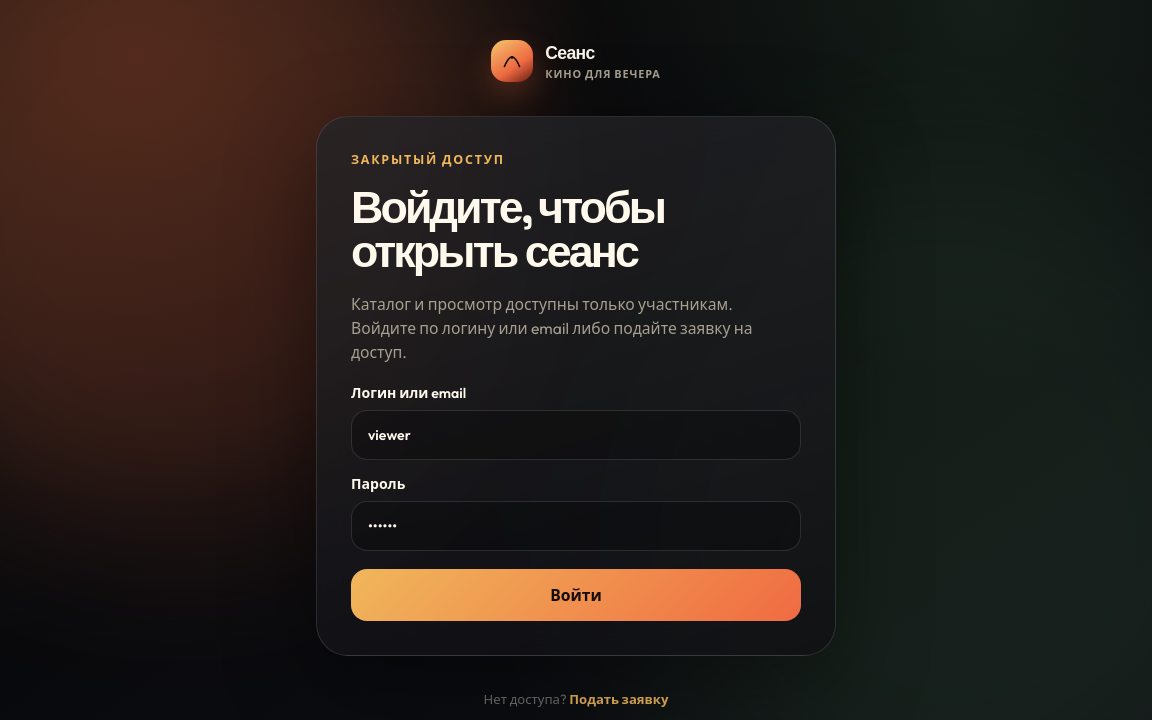
Test: AuthGateScreen › switches between login and signup
This screenshot has width=1152, height=720.
Step 1. Click the button "Подать заявку" → (619, 699), box [569, 690, 668, 709]
(page scrolled)
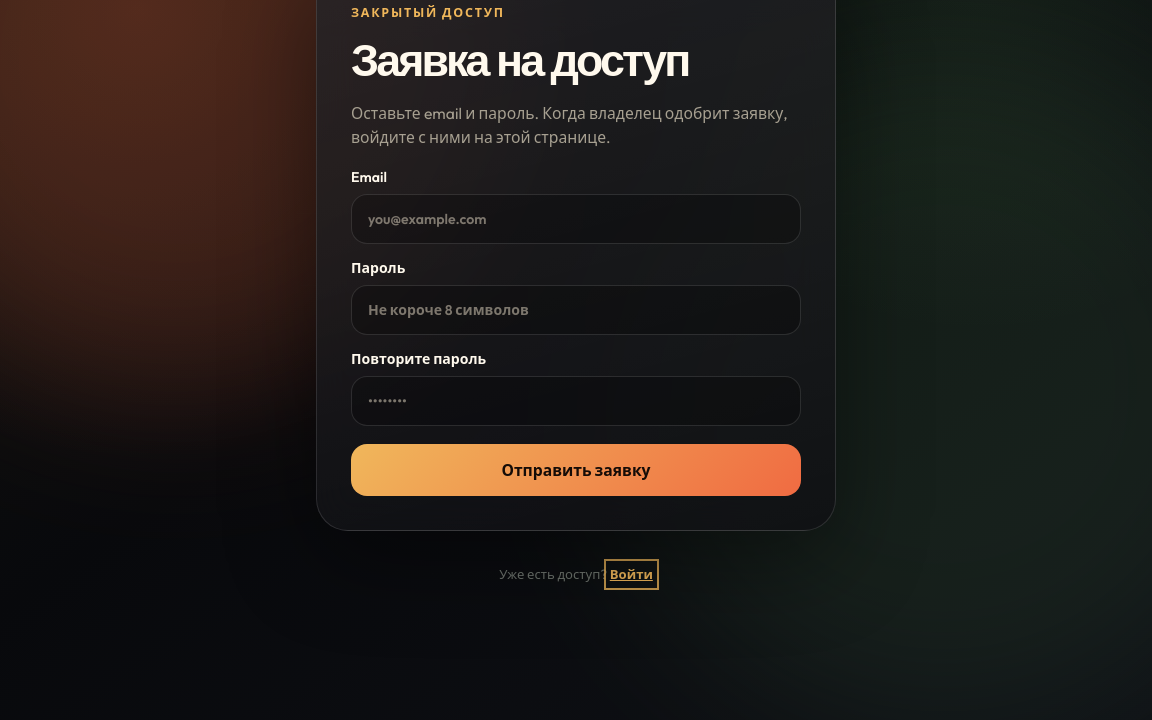
Now the heading "Заявка на доступ" is shown, box [351, 32, 688, 89]
Step 2. Click the button "Войти" → (631, 574), box [610, 564, 653, 584]
(page scrolled)
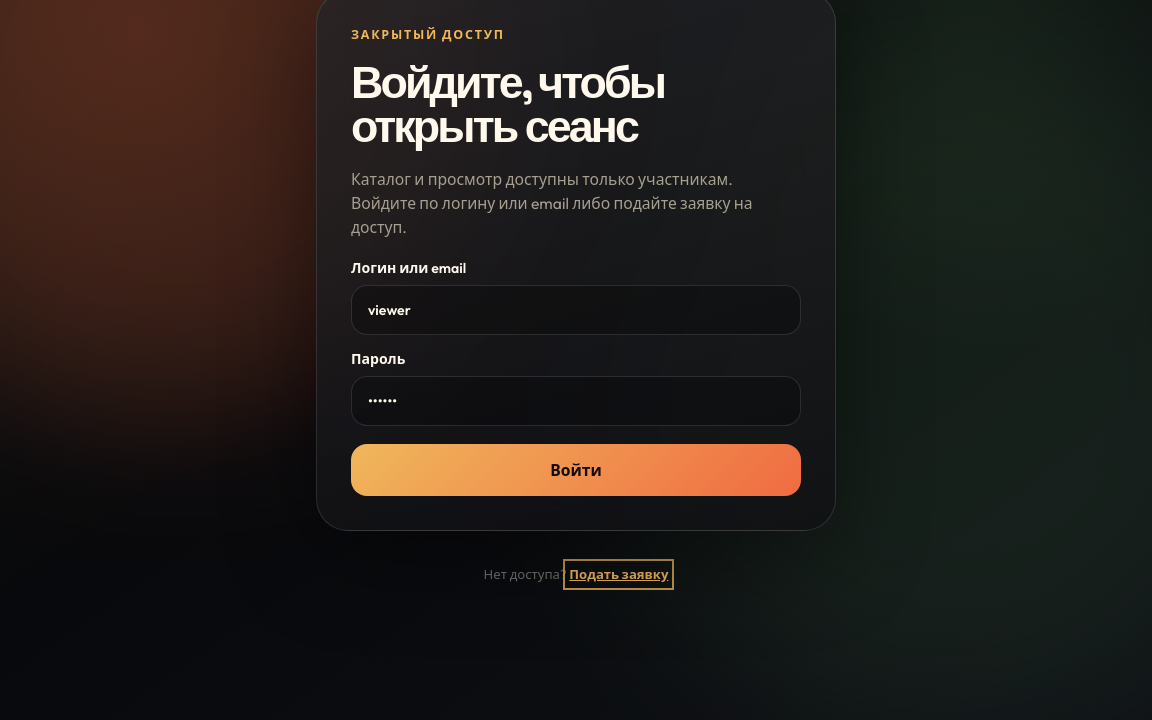
Now the heading "Войдите, чтобы открыть сеанс" is shown, box [351, 54, 664, 155]
